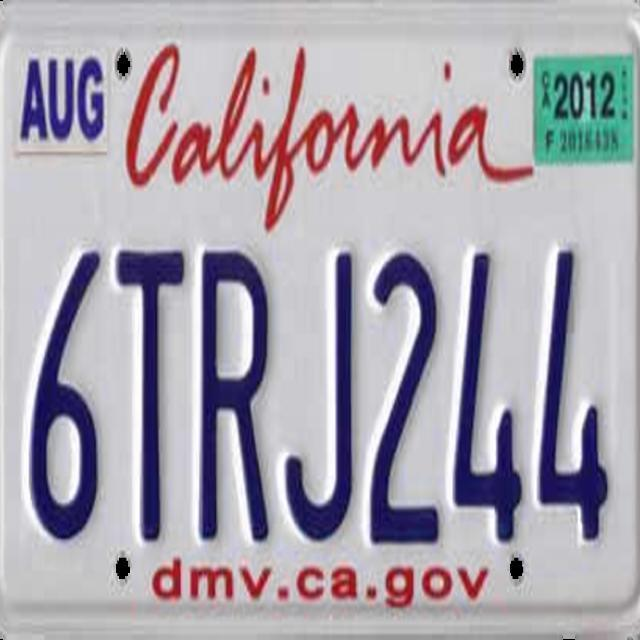Plat: (5, 5, 640, 640)
